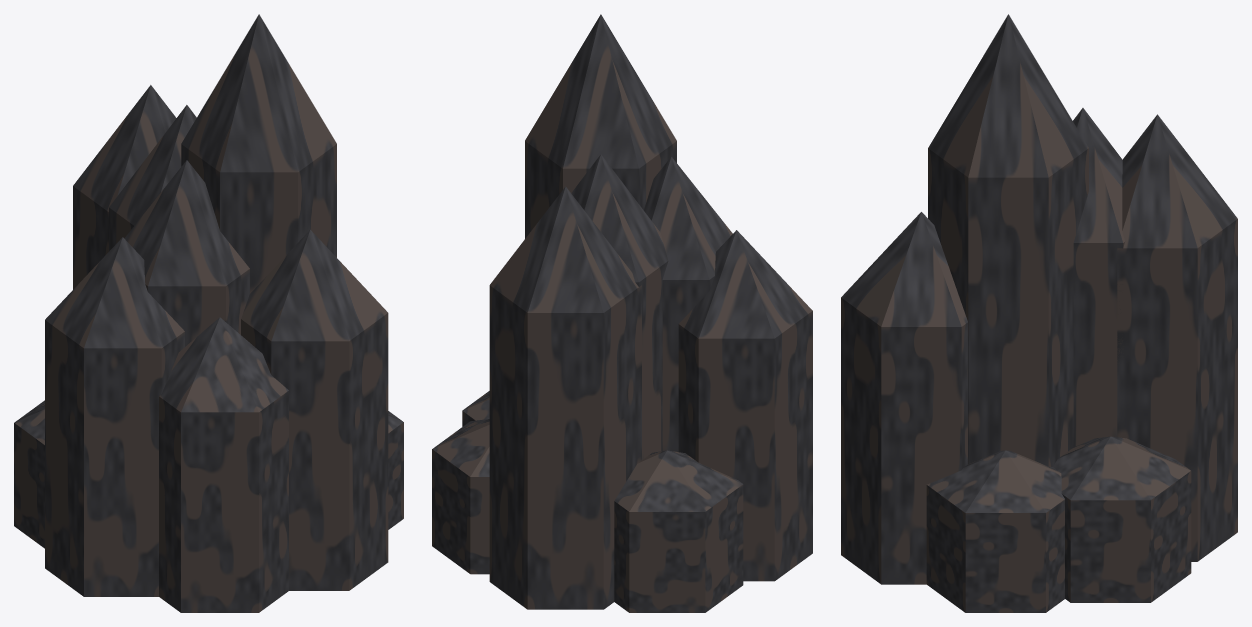
The model's file is BasaltColumns.glb.
3 views of the same model, side by side, from view 1: azimuth 30°, elevation 25°; view 2: azimuth 150°, elevation 25°; view 3: azimuth 270°, elevation 25° (orthographic). The views are drawn at different scales.
Parts seen in each view (by area): view 1: BasaltColumns; view 2: BasaltColumns; view 3: BasaltColumns.
Boxes of the visible parts, x1,y1,x2,y2 form: BasaltColumns: [14, 14, 403, 612]; BasaltColumns: [432, 14, 812, 612]; BasaltColumns: [841, 14, 1237, 612].
Size of the model in its own units: 2.3 by 3.58 by 2.4.
1 material, 1 textured.
